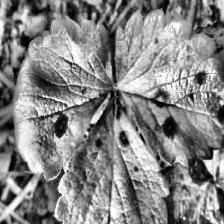Leaf Spot: (114, 7, 224, 168), (13, 15, 114, 182), (53, 91, 170, 224), (139, 152, 224, 224)
